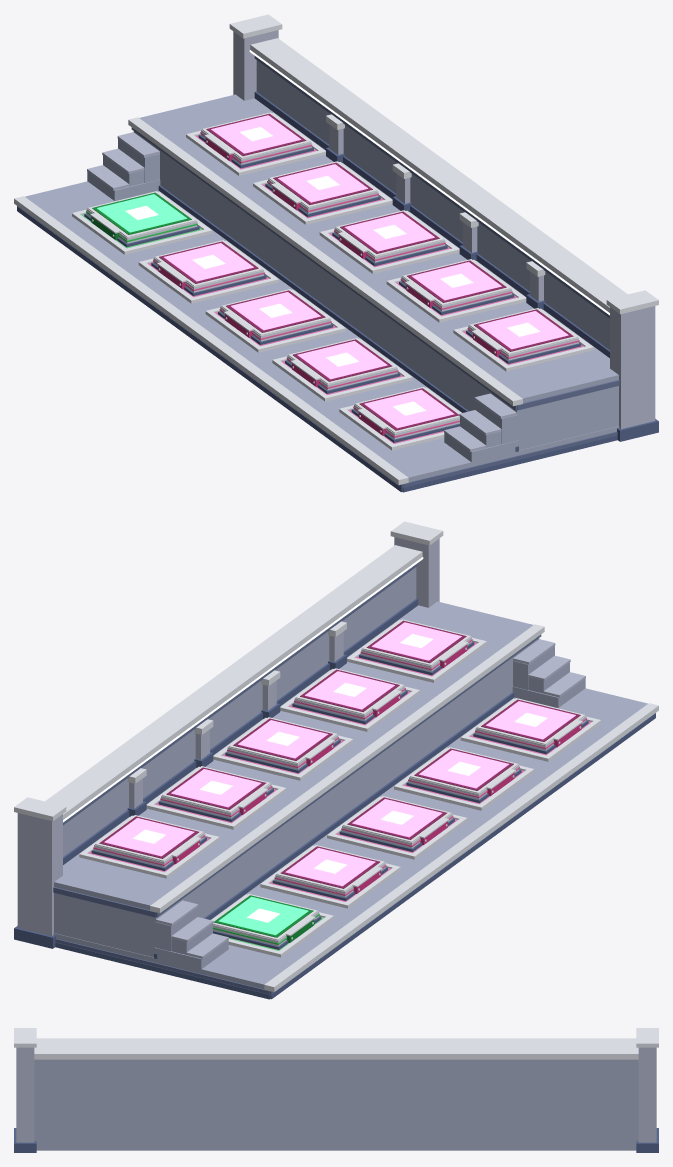
The model's file is GunStand_2Tiers_StandOnly.glb.
The picture shows the model from 3 angles, top to bottom: view 1: azimuth 30°, elevation 25°; view 2: azimuth 150°, elevation 25°; view 3: azimuth 270°, elevation 25°; orthographic projection. The views are drawn at different scales.
Visible parts, largest first — view 1: ArmoryTier_201, ArmoryTierTop_200, ArmoryTierTop_209, BackCoping_179, ArmoryBack_182, TierCoping_197, TierCoping_206, CornerPost_166, BackKick_181, TierKick_199, TierKick_208, StateTop_133 (+22 smaller); view 2: ArmoryTier_201, ArmoryTierTop_200, ArmoryTierTop_209, BackCoping_179, ArmoryBack_182, TierCoping_197, TierCoping_206, CornerPost_163, BackKick_181, TierKick_199, TierKick_208, StateTop_101 (+22 smaller); view 3: ArmoryBack_182, BackCoping_179, TierCoping_206, CornerPost_163, CornerPost_166, TierCoping_197, CornerCap_161, CornerCap_164, CornerBase_162, CornerBase_165.
Part boxes in pixels (x1,y1,x2,y2): ArmoryTier_201: (133,131,618,450); ArmoryTierTop_200: (139,94,618,400); ArmoryTierTop_209: (25,181,619,479); BackCoping_179: (250,38,627,312); ArmoryBack_182: (256,60,609,349); TierCoping_197: (128,117,522,406); TierCoping_206: (14,196,408,484); CornerPost_166: (610,306,655,429); BackKick_181: (254,91,609,357); TierKick_199: (158,185,518,451); TierKick_208: (17,206,402,492); StateTop_133: (163,243,253,281); ArmoryTier_201: (54,638,539,957); ArmoryTierTop_200: (54,601,533,907); ArmoryTierTop_209: (53,688,647,986); BackCoping_179: (45,545,422,819); ArmoryBack_182: (63,567,416,856); TierCoping_197: (150,624,544,913); TierCoping_206: (264,703,658,991); CornerPost_163: (17,813,62,936); BackKick_181: (63,598,418,864); TierKick_199: (154,692,514,958); TierKick_208: (270,713,655,999); StateTop_101: (419,750,509,788); ArmoryBack_182: (34,1059,638,1150); BackCoping_179: (34,1043,638,1059); TierCoping_206: (36,1038,636,1042); CornerPost_163: (638,1047,656,1142); CornerPost_166: (16,1047,34,1142); TierCoping_197: (36,1042,636,1042); CornerCap_161: (636,1028,658,1047); CornerCap_164: (14,1028,36,1047); CornerBase_162: (636,1128,658,1152); CornerBase_165: (14,1128,36,1152).
Size of the model in its own units: 16.9 by 8.3 by 44.4.
